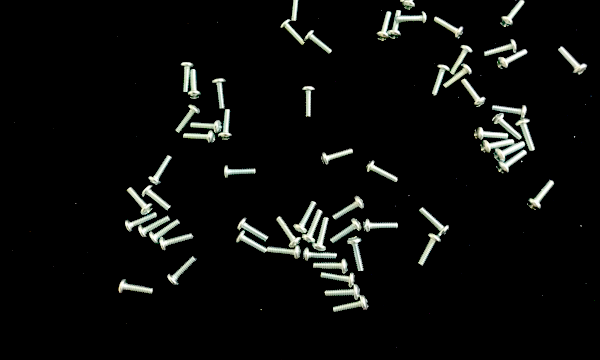shortscrew: (419, 207, 450, 238), (167, 256, 198, 287), (558, 47, 587, 78), (527, 181, 555, 212), (329, 219, 362, 245), (332, 196, 366, 221), (417, 234, 442, 268), (147, 155, 173, 187), (126, 187, 154, 216), (174, 105, 201, 135), (150, 219, 181, 245), (496, 151, 528, 176), (365, 160, 398, 184), (138, 216, 171, 240), (499, 0, 525, 30), (492, 113, 522, 139), (142, 185, 172, 211), (434, 16, 465, 41), (237, 217, 268, 242), (444, 64, 473, 90), (294, 201, 316, 235), (304, 30, 333, 55), (277, 217, 301, 247), (302, 210, 323, 244), (236, 231, 267, 254), (279, 19, 305, 46), (484, 40, 519, 60), (450, 45, 474, 74), (516, 120, 537, 153), (125, 213, 159, 233), (332, 296, 369, 314), (497, 50, 528, 71), (463, 80, 486, 108), (494, 142, 526, 162), (347, 237, 365, 272), (159, 234, 194, 252), (492, 105, 529, 122), (320, 148, 354, 166), (432, 64, 450, 97), (324, 285, 361, 301), (312, 218, 329, 252), (320, 273, 356, 289), (118, 280, 154, 296), (268, 244, 301, 261), (480, 140, 515, 156), (363, 220, 399, 235), (313, 260, 348, 275), (183, 130, 218, 145), (303, 248, 337, 263), (223, 166, 257, 181), (218, 109, 233, 143), (474, 127, 509, 141), (302, 85, 316, 117), (188, 69, 202, 101), (212, 79, 226, 110), (190, 121, 223, 134), (397, 12, 427, 26), (182, 62, 195, 94), (290, 0, 304, 23), (403, 0, 421, 13), (399, 0, 418, 3)
